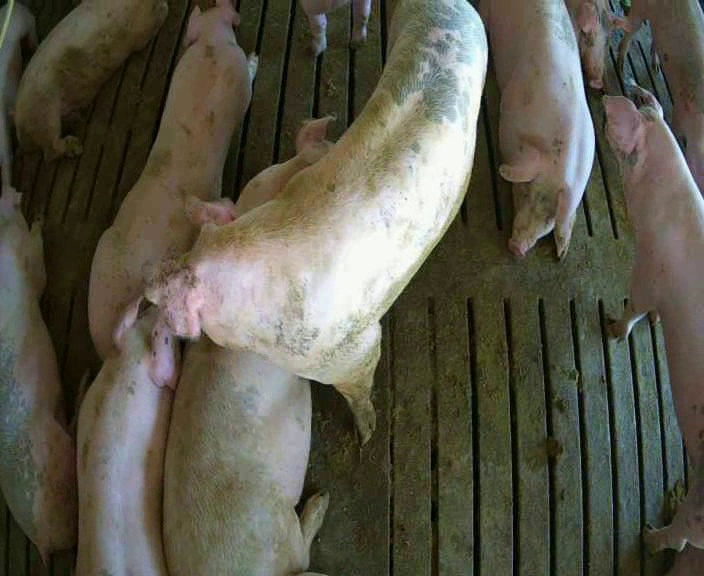pig: (146, 2, 487, 441), (89, 3, 257, 357), (604, 88, 703, 553), (479, 2, 594, 257), (77, 296, 180, 574), (15, 2, 167, 159), (617, 2, 703, 193), (567, 1, 631, 89)
